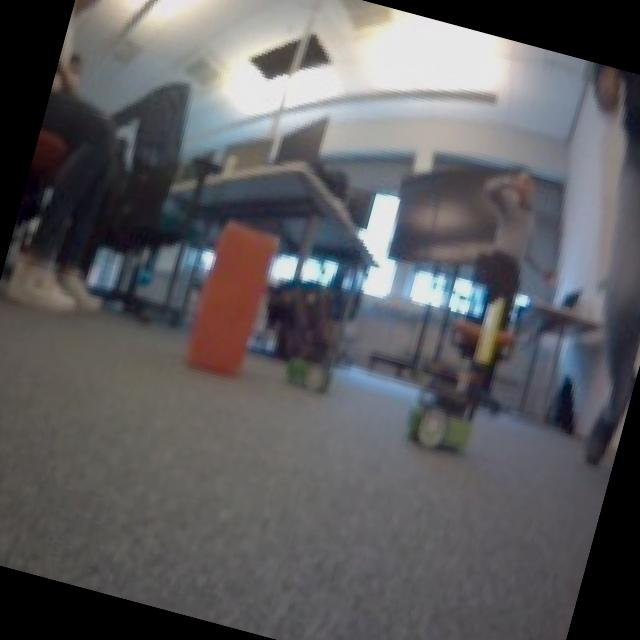robot: (400, 374, 484, 460), (280, 331, 345, 399)
target: (178, 213, 282, 379)
